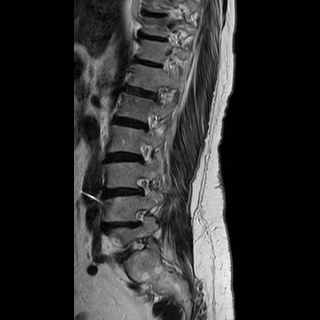RFS0: (129, 172, 156, 200), (134, 139, 159, 168)
RFS1: (127, 205, 153, 232)
